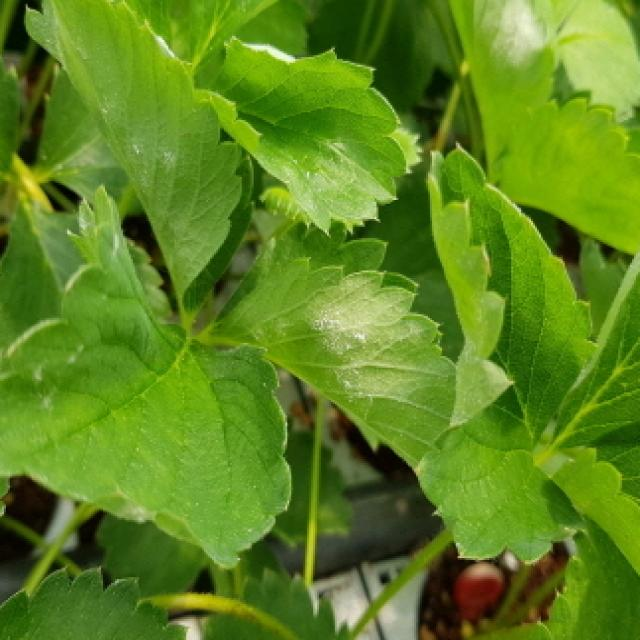Powdery Mildew Leaf: (0, 182, 291, 571), (25, 0, 254, 321), (201, 214, 457, 466), (193, 35, 411, 235), (537, 240, 640, 474), (444, 0, 562, 184)
